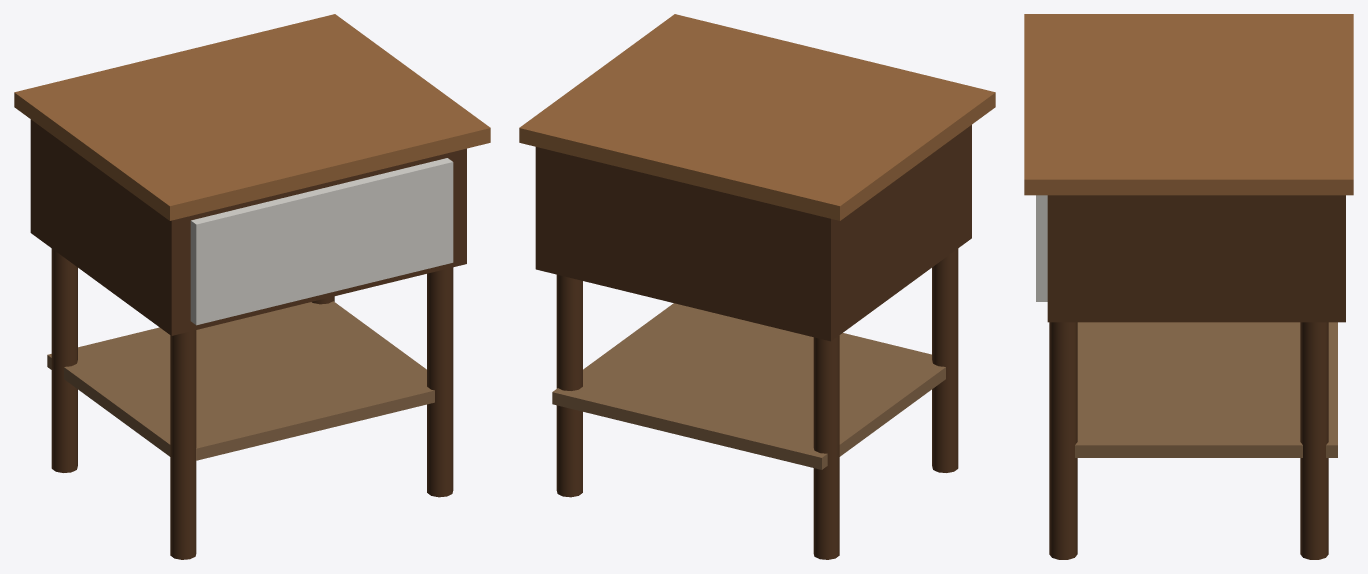
The model's file is nightstand-lite.glb.
3 renders of one model, left to right at view 1: azimuth 30°, elevation 25°; view 2: azimuth 150°, elevation 25°; view 3: azimuth 270°, elevation 25°, orthographic. The views are drawn at different scales.
Visible parts, largest first — view 1: material-3-top, material-5-shelf, material-2-drawer, material-1-body, material-0-leg; view 2: material-3-top, material-1-body, material-5-shelf, material-0-leg; view 3: material-3-top, material-1-body, material-5-shelf, material-0-leg, material-2-drawer.
Boxes of the visible parts, x1=… form: material-3-top: x1=14, y1=14, x2=490, y2=220; material-5-shelf: x1=47, y1=301, x2=434, y2=460; material-2-drawer: x1=190, y1=158, x2=453, y2=325; material-1-body: x1=30, y1=119, x2=466, y2=335; material-0-leg: x1=51, y1=248, x2=453, y2=559; material-3-top: x1=519, y1=14, x2=995, y2=220; material-1-body: x1=535, y1=125, x2=971, y2=341; material-5-shelf: x1=552, y1=303, x2=945, y2=469; material-0-leg: x1=556, y1=248, x2=958, y2=559; material-3-top: x1=1024, y1=14, x2=1353, y2=195; material-1-body: x1=1047, y1=195, x2=1345, y2=322; material-5-shelf: x1=1075, y1=322, x2=1337, y2=457; material-0-leg: x1=1049, y1=322, x2=1328, y2=559; material-2-drawer: x1=1036, y1=195, x2=1047, y2=301.
Bounding box in the file's own units: 0.5 × 0.55 × 0.42.
